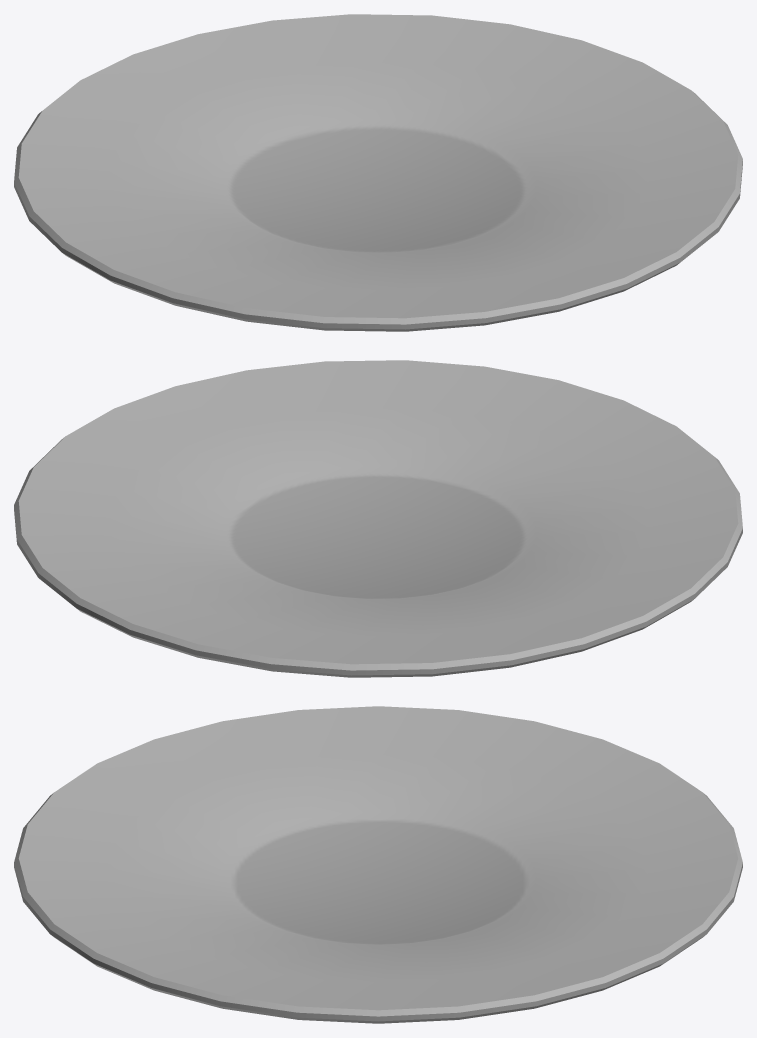
The model's file is saucer white.FBX.
3 renders of one model, top to bottom at view 1: azimuth 30°, elevation 25°; view 2: azimuth 150°, elevation 25°; view 3: azimuth 270°, elevation 25°, orthographic.
Visible parts, largest first — view 1: saucer white; view 2: saucer white; view 3: saucer white.
Part boxes in pixels (left/top/right/bottom): saucer white: left=14, top=14, right=742, bottom=331; saucer white: left=14, top=360, right=742, bottom=677; saucer white: left=14, top=706, right=742, bottom=1023.
Size of the model in its own units: 5.99 by 5.99 by 0.3661.
1 material, 1 textured.
